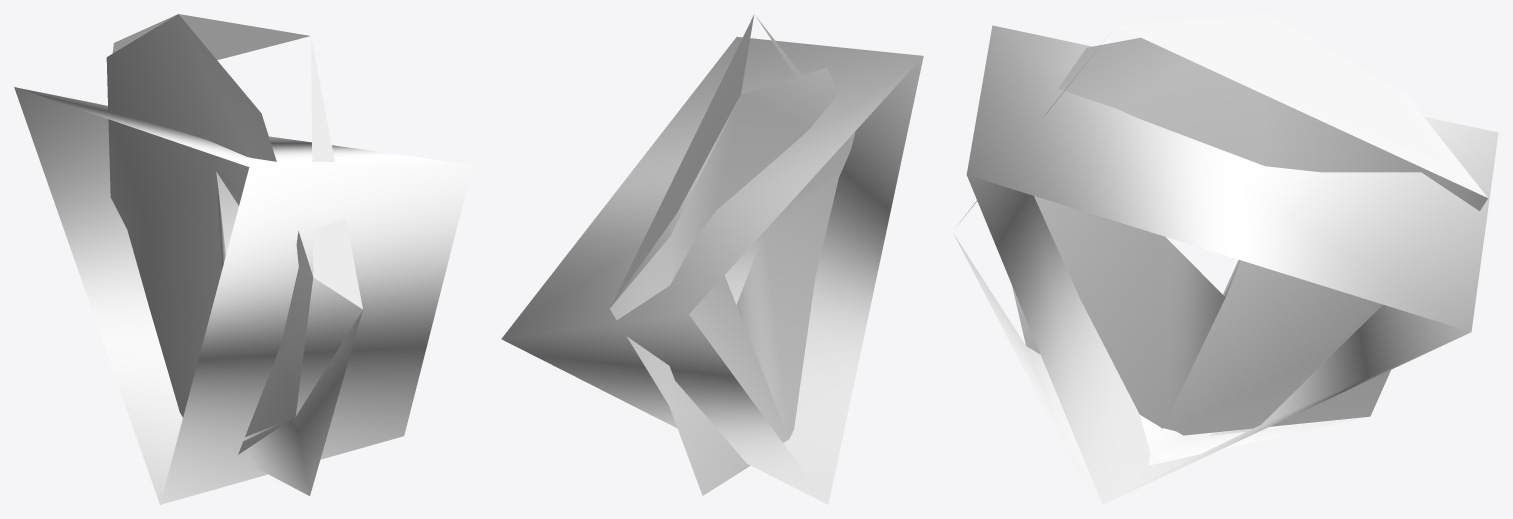
3 renders of one model, left to right at view 1: azimuth 30°, elevation 25°; view 2: azimuth 150°, elevation 25°; view 3: azimuth 270°, elevation 25°, orthographic. The views are drawn at different scales.
Bounding box in the file's own units: 0.1775 × 0.3609 × 0.3662.
Materials: 1 (1 with a texture image).
